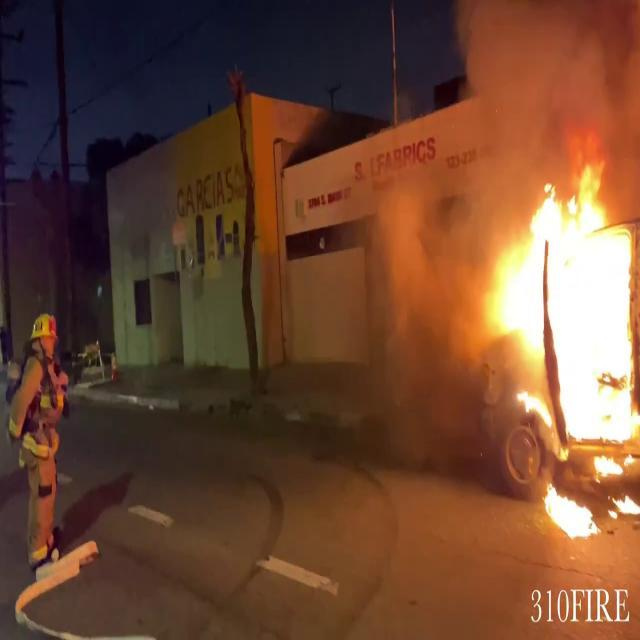Fire: (479, 158, 640, 533)
Smoke: (446, 1, 640, 212)
